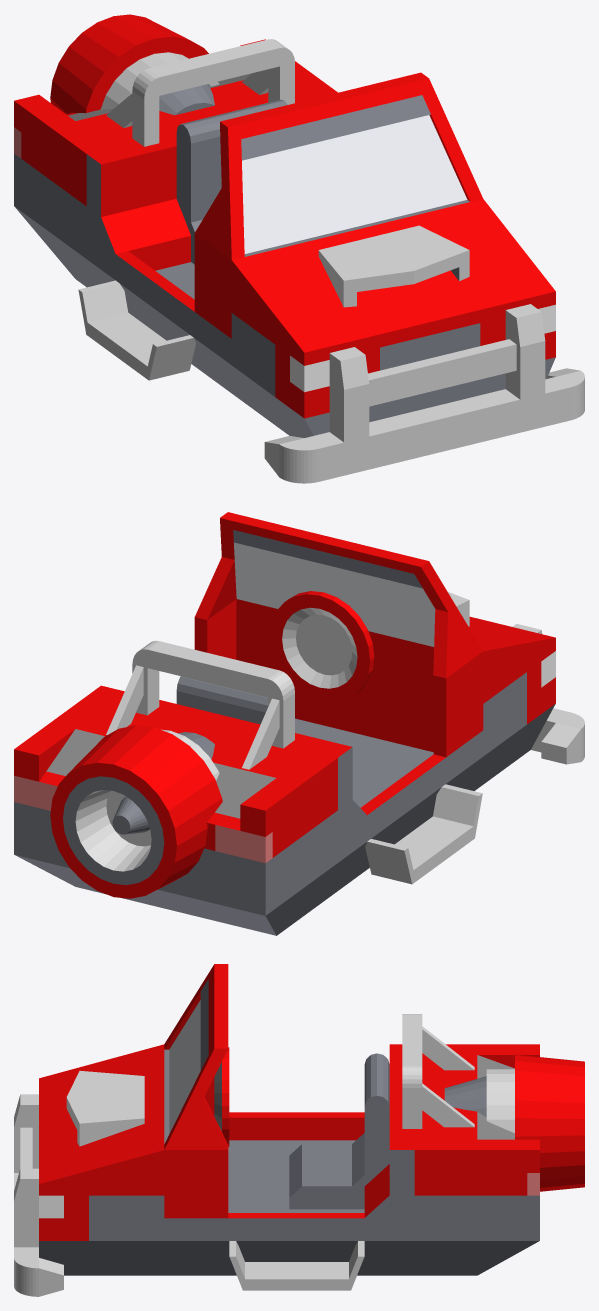
Rendered from BuggyRed.fbx.
3 views of the same model, one above another, from view 1: azimuth 30°, elevation 25°; view 2: azimuth 150°, elevation 25°; view 3: azimuth 270°, elevation 25° (orthographic). The views are drawn at different scales.
Parts seen in each view (by area): view 1: body_frontTruckShort; view 2: body_frontTruckShort; view 3: body_frontTruckShort.
Boxes of the visible parts, bbox=[...] form: body_frontTruckShort: bbox=[14, 14, 584, 483]; body_frontTruckShort: bbox=[14, 512, 584, 935]; body_frontTruckShort: bbox=[14, 964, 584, 1296].
Size of the model in its own units: 130 by 100 by 228.
